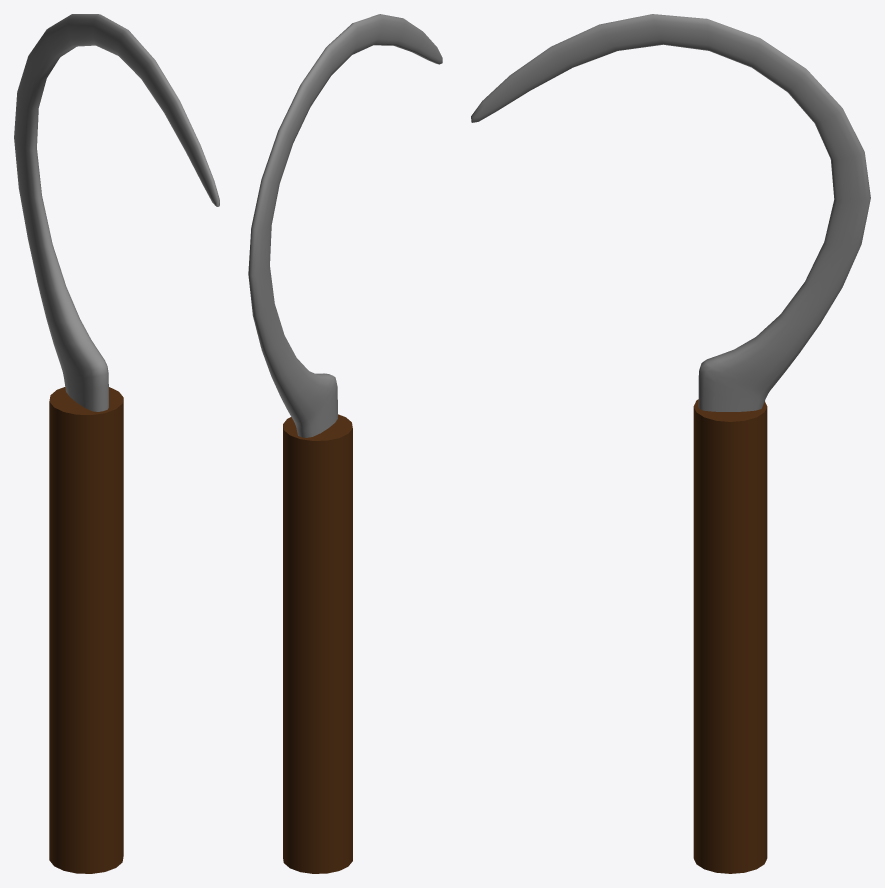
The model's file is sickle.glb.
3 views of the same model, side by side, from view 1: azimuth 30°, elevation 25°; view 2: azimuth 150°, elevation 25°; view 3: azimuth 270°, elevation 25° (orthographic). The views are drawn at different scales.
Parts seen in each view (by area): view 1: Scythe, Plane; view 2: Scythe, Plane; view 3: Scythe, Plane.
Part boxes in pixels (x1=…): Scythe: x1=49, y1=387, x2=123, y2=873; Plane: x1=14, y1=14, x2=219, y2=411; Scythe: x1=283, y1=414, x2=352, y2=873; Plane: x1=248, y1=14, x2=442, y2=437; Scythe: x1=693, y1=399, x2=767, y2=873; Plane: x1=471, y1=14, x2=870, y2=411.
Bounding box in the file's own units: 0.1978 × 2.5 × 1.07.
